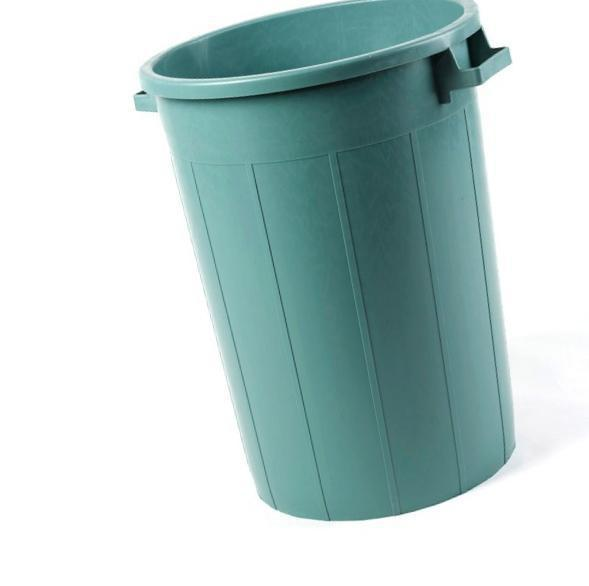Bote de Basura: (148, 0, 519, 528)
